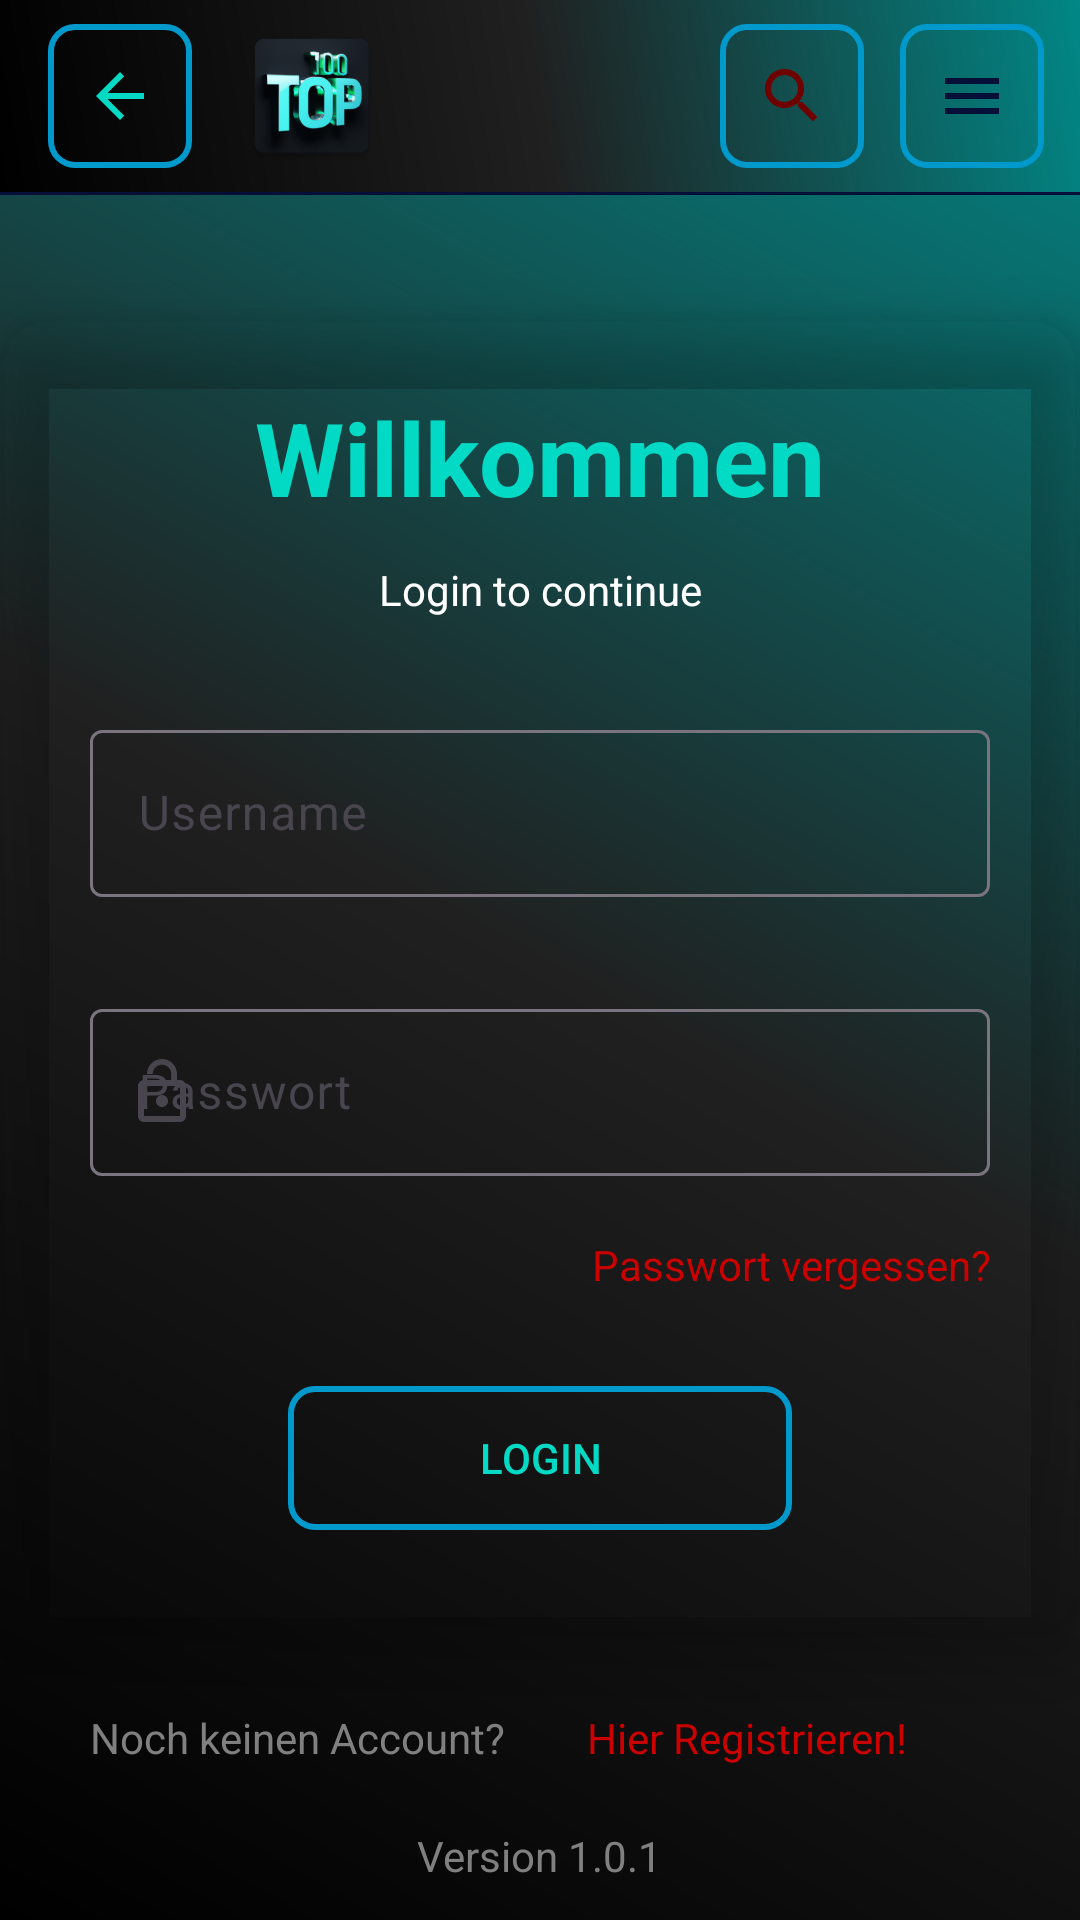

Icons on this 1080×1920 Android screen, each with the point to tap as (x=x, y=y):
Zum vorherigen Bildschirm gehen: (x=120, y=96)
